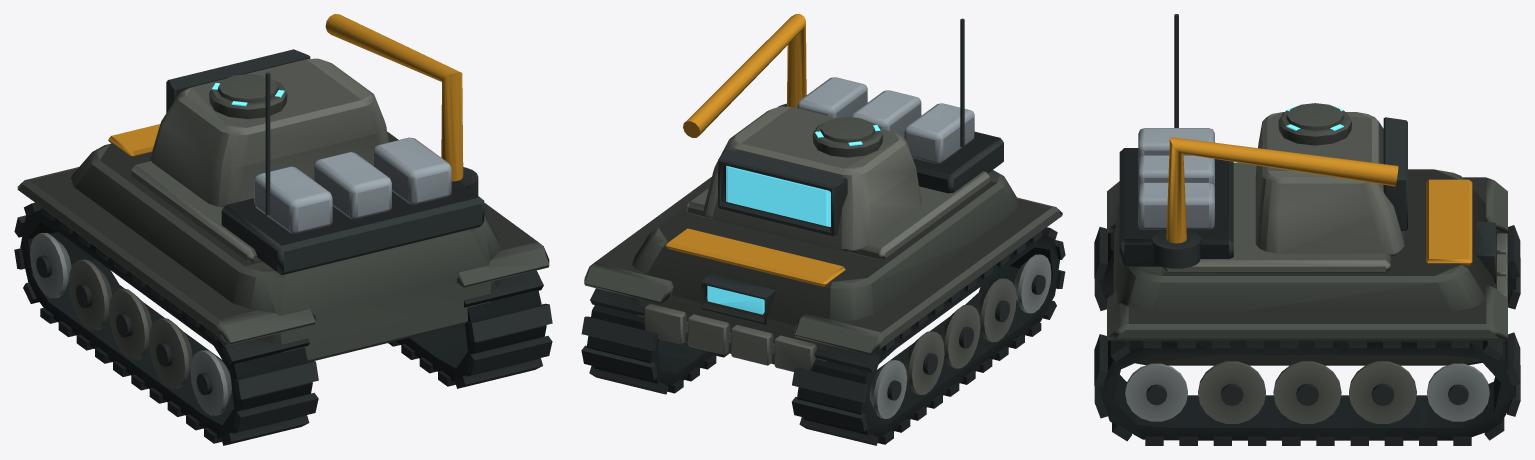
File: Worker.glb
3 views of the same model, side by side, from view 1: azimuth 30°, elevation 25°; view 2: azimuth 150°, elevation 25°; view 3: azimuth 270°, elevation 25° (orthographic). The views are drawn at different scales.
Parts seen in each view (by area): view 1: export_Worker_TrackBelt, export_Worker_Tread, export_Worker_Tread.028, export_Worker_Antenna; view 2: export_Worker_TrackBelt, export_Worker_Tread, export_Worker_Tread.028, export_Worker_Antenna; view 3: export_Worker_TrackBelt, export_Worker_Tread.028, export_Worker_Tread, export_Worker_Antenna.
Boxes of the visible parts, x1=… form: export_Worker_TrackBelt: x1=17, y1=14, x2=549, y2=438; export_Worker_Tread: x1=14, y1=202, x2=318, y2=445; export_Worker_Tread.028: x1=388, y1=270, x2=552, y2=388; export_Worker_Antenna: x1=265, y1=72, x2=270, y2=215; export_Worker_TrackBelt: x1=584, y1=14, x2=1062, y2=437; export_Worker_Tread: x1=791, y1=227, x2=1065, y2=445; export_Worker_Tread.028: x1=581, y1=288, x2=728, y2=394; export_Worker_Antenna: x1=960, y1=18, x2=964, y2=147; export_Worker_TrackBelt: x1=1099, y1=103, x2=1515, y2=440; export_Worker_Tread.028: x1=1094, y1=332, x2=1520, y2=445; export_Worker_Tread: x1=1094, y1=225, x2=1520, y2=310; export_Worker_Antenna: x1=1174, y1=14, x2=1178, y2=127.
Bounding box in the file's own units: 2.31 × 2.3 × 2.77.
